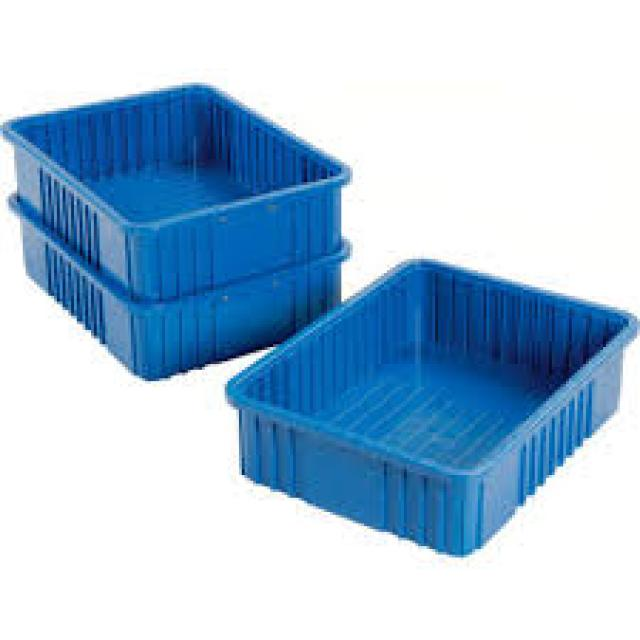basket: (0, 37, 371, 331), (0, 199, 350, 402)
